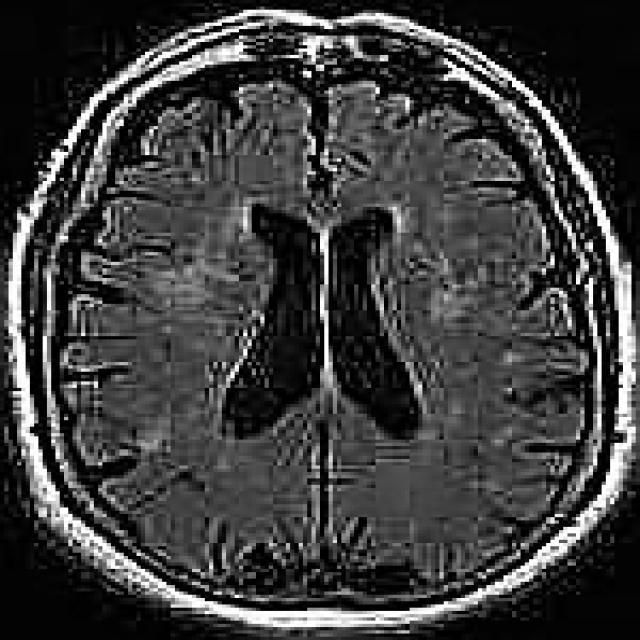notumor: (13, 10, 636, 614)
